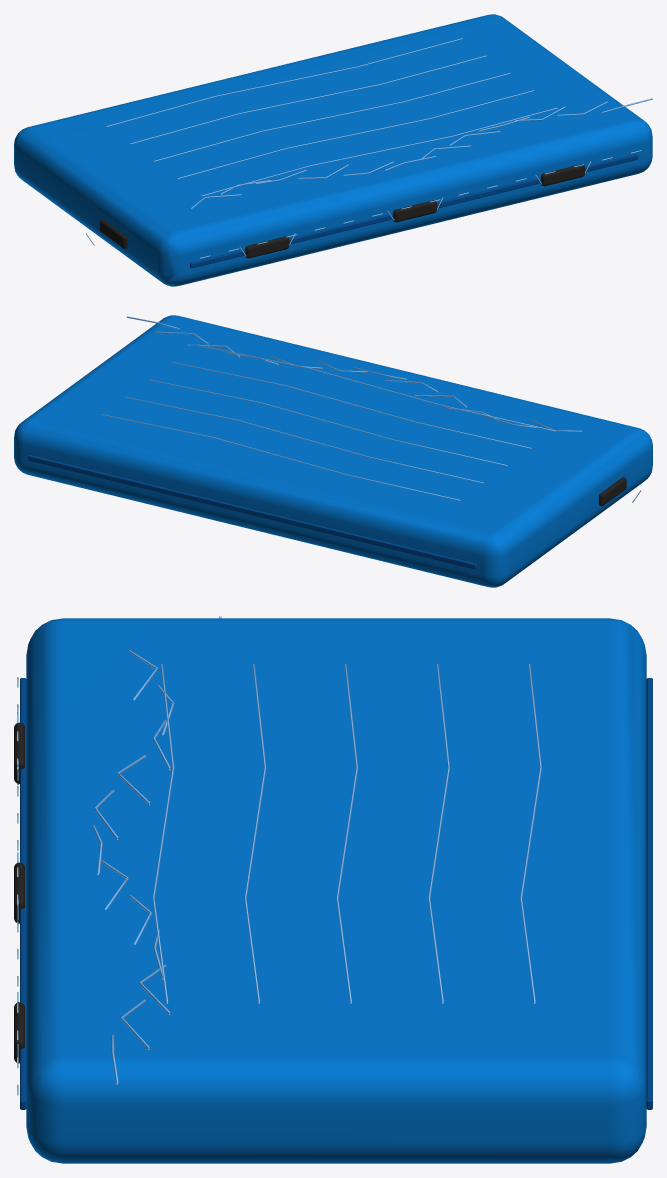
The model's file is weichbodenmatte_3D_v2.glb.
3 renders of one model, top to bottom at view 1: azimuth 30°, elevation 25°; view 2: azimuth 150°, elevation 25°; view 3: azimuth 270°, elevation 25°, orthographic. The views are drawn at different scales.
Parts seen in each view (by area): view 1: weichbodenmatte_3D_v2__web_deep_blue_glossy_crash_mat_vinyl_, weichbodenmatte_3D_v2__web_v2_extra_pale_vinyl_wrinkle_highl, weichbodenmatte_3D_v2__web_black_fabric_handles_on_crash_mat, weichbodenmatte_3D_v2__web_darker_blue_crash_mat_stitched_si, weichbodenmatte_3D_v2__web_pale_blue_soft_wrinkle_highlights; view 2: weichbodenmatte_3D_v2__web_deep_blue_glossy_crash_mat_vinyl_, weichbodenmatte_3D_v2__web_v2_extra_pale_vinyl_wrinkle_highl, weichbodenmatte_3D_v2__web_darker_blue_crash_mat_stitched_si, weichbodenmatte_3D_v2__web_pale_blue_soft_wrinkle_highlights, weichbodenmatte_3D_v2__web_black_fabric_handles_on_crash_mat; view 3: weichbodenmatte_3D_v2__web_deep_blue_glossy_crash_mat_vinyl_, weichbodenmatte_3D_v2__web_darker_blue_crash_mat_stitched_si, weichbodenmatte_3D_v2__web_v2_extra_pale_vinyl_wrinkle_highl, weichbodenmatte_3D_v2__web_pale_blue_soft_wrinkle_highlights, weichbodenmatte_3D_v2__web_black_fabric_handles_on_crash_mat.
Boxes of the visible parts, left/top/right/bottom form: weichbodenmatte_3D_v2__web_deep_blue_glossy_crash_mat_vinyl_: left=14, top=14, right=652, bottom=286; weichbodenmatte_3D_v2__web_v2_extra_pale_vinyl_wrinkle_highl: left=106, top=38, right=557, bottom=196; weichbodenmatte_3D_v2__web_black_fabric_handles_on_crash_mat: left=99, top=164, right=584, bottom=258; weichbodenmatte_3D_v2__web_darker_blue_crash_mat_stitched_si: left=190, top=154, right=638, bottom=268; weichbodenmatte_3D_v2__web_pale_blue_soft_wrinkle_highlights: left=191, top=98, right=652, bottom=208; weichbodenmatte_3D_v2__web_deep_blue_glossy_crash_mat_vinyl_: left=14, top=315, right=652, bottom=587; weichbodenmatte_3D_v2__web_v2_extra_pale_vinyl_wrinkle_highl: left=101, top=344, right=555, bottom=500; weichbodenmatte_3D_v2__web_darker_blue_crash_mat_stitched_si: left=28, top=455, right=476, bottom=569; weichbodenmatte_3D_v2__web_pale_blue_soft_wrinkle_highlights: left=127, top=316, right=581, bottom=431; weichbodenmatte_3D_v2__web_black_fabric_handles_on_crash_mat: left=599, top=477, right=626, bottom=506; weichbodenmatte_3D_v2__web_deep_blue_glossy_crash_mat_vinyl_: left=26, top=618, right=646, bottom=1163; weichbodenmatte_3D_v2__web_darker_blue_crash_mat_stitched_si: left=20, top=678, right=652, bottom=1109; weichbodenmatte_3D_v2__web_v2_extra_pale_vinyl_wrinkle_highl: left=152, top=664, right=541, bottom=1003; weichbodenmatte_3D_v2__web_pale_blue_soft_wrinkle_highlights: left=92, top=650, right=174, bottom=1084; weichbodenmatte_3D_v2__web_black_fabric_handles_on_crash_mat: left=14, top=722, right=24, bottom=1063.
Size of the model in its own units: 2.63 by 0.2729 by 1.39.
